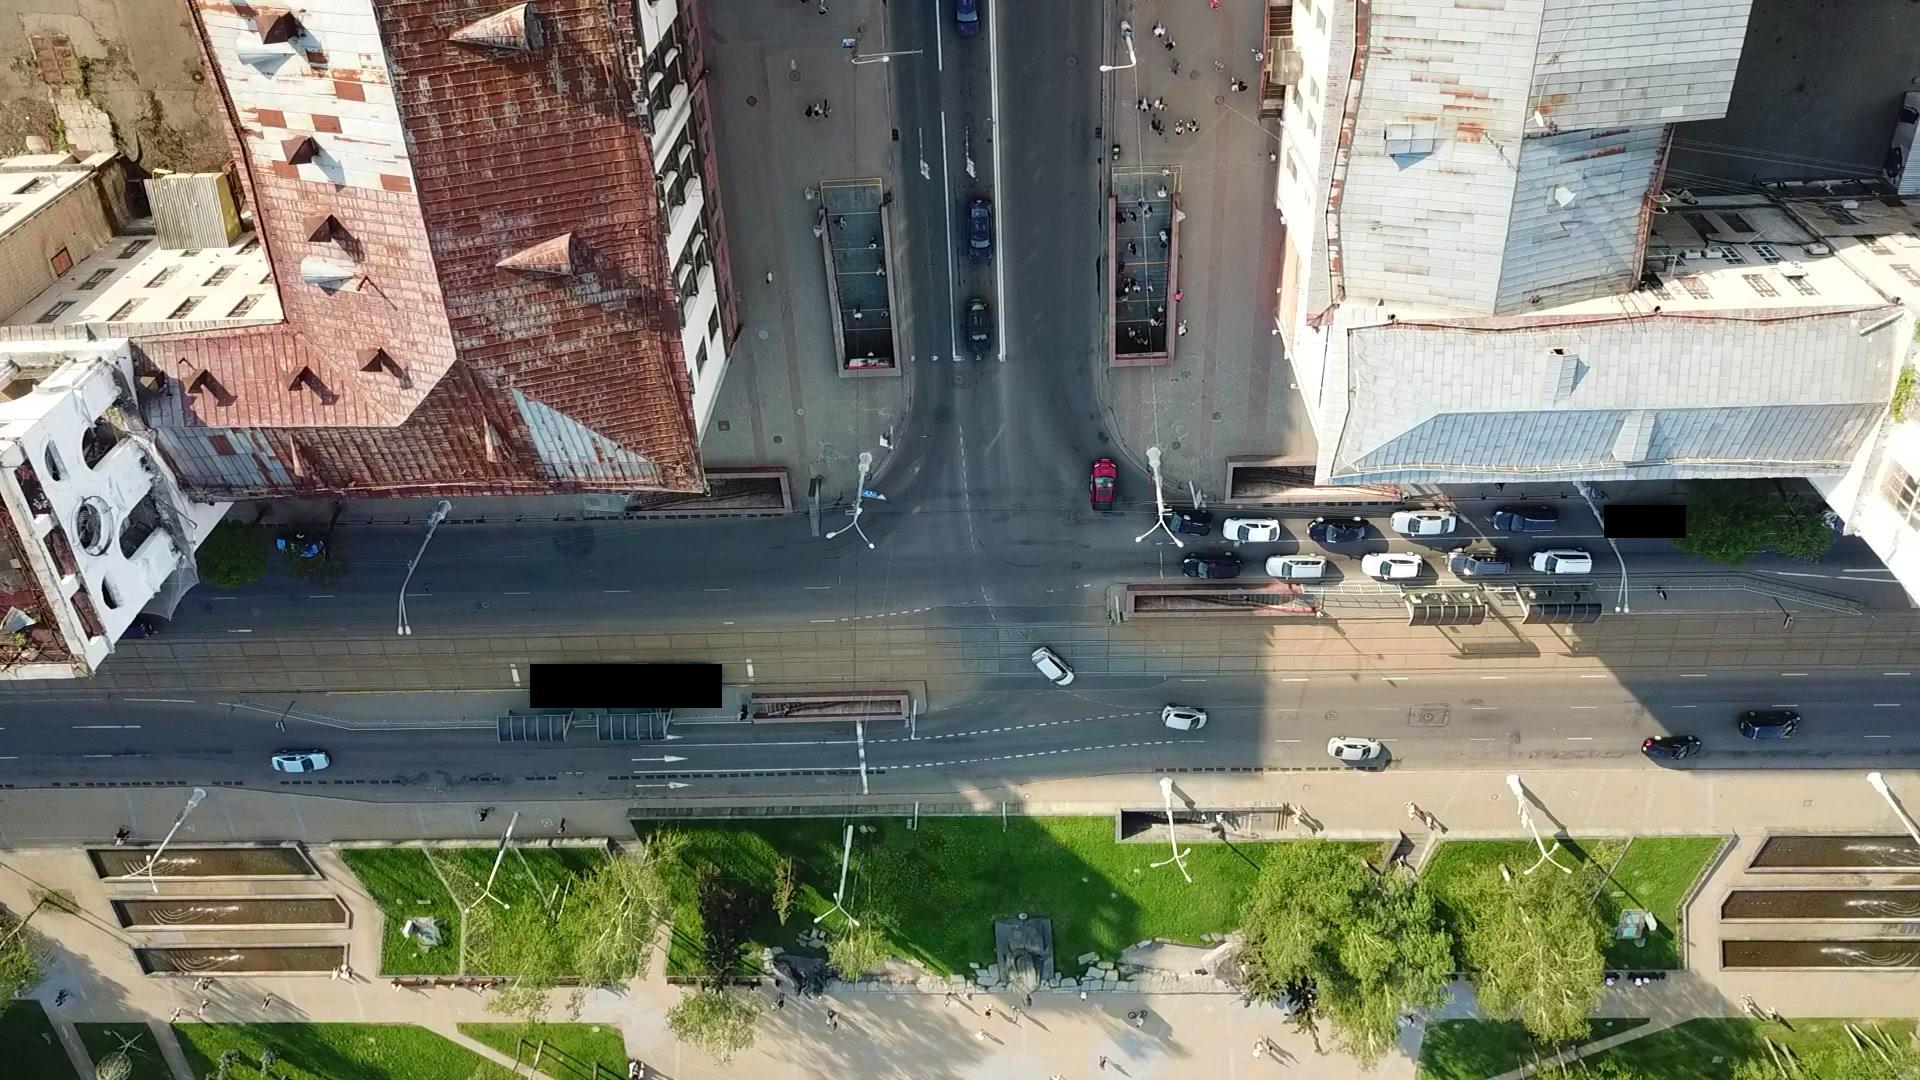vehicle: (967, 195, 996, 262), (1391, 506, 1457, 535), (1182, 551, 1244, 582), (1154, 506, 1213, 538), (1494, 505, 1559, 534), (1447, 549, 1513, 576), (964, 295, 993, 357), (1530, 547, 1592, 575), (1362, 551, 1423, 579), (1307, 517, 1367, 545), (1739, 712, 1803, 738), (1033, 647, 1073, 687), (1222, 517, 1280, 545), (276, 530, 328, 559), (1640, 735, 1701, 760), (1091, 458, 1117, 514), (272, 749, 331, 774), (1266, 555, 1328, 579), (1328, 736, 1382, 761), (1160, 704, 1207, 731)
